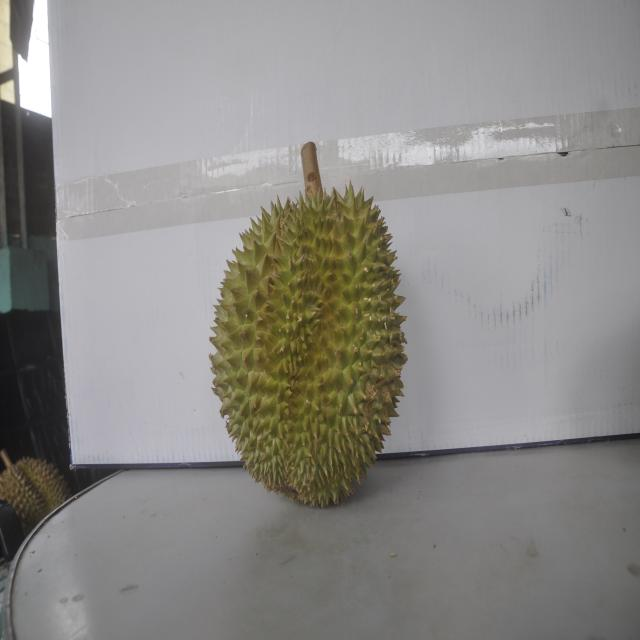mature: (209, 166, 409, 507), (0, 455, 70, 541)
